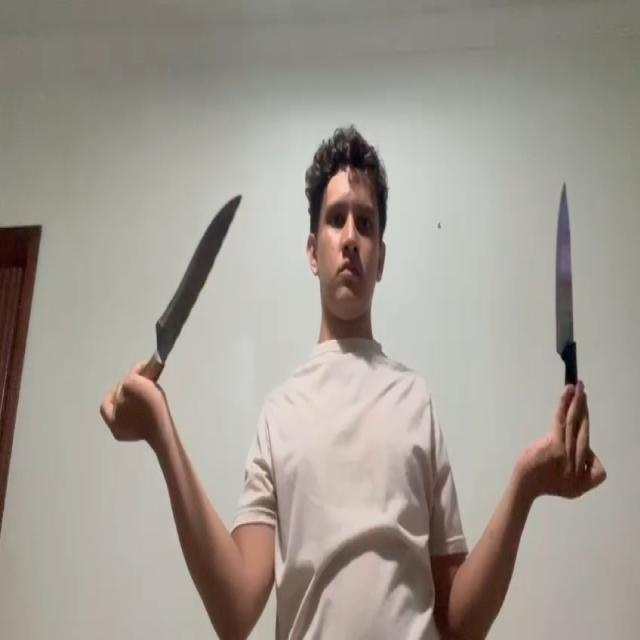knife: (152, 192, 244, 354), (554, 177, 575, 355)
